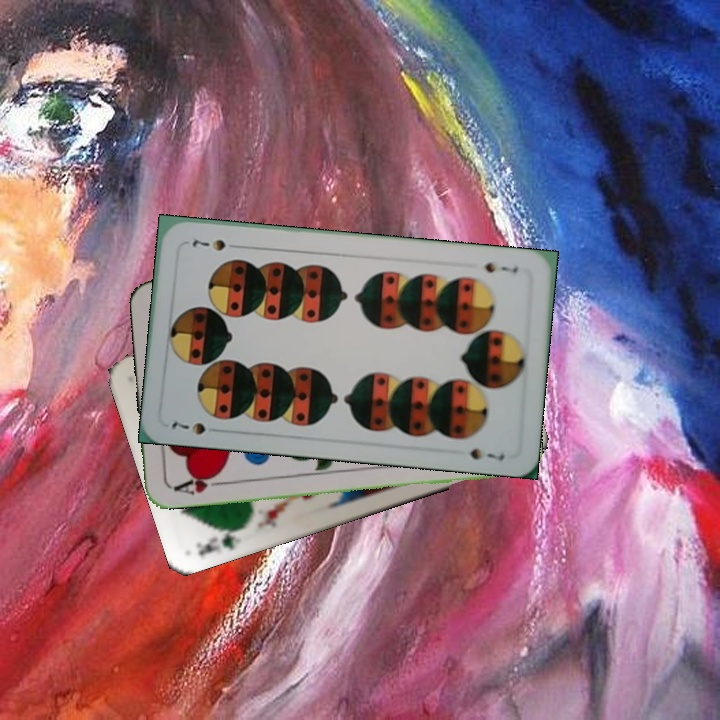GK: (192, 523, 245, 559)
HA: (169, 469, 228, 498)
S7: (166, 417, 224, 437), (480, 258, 521, 276)
